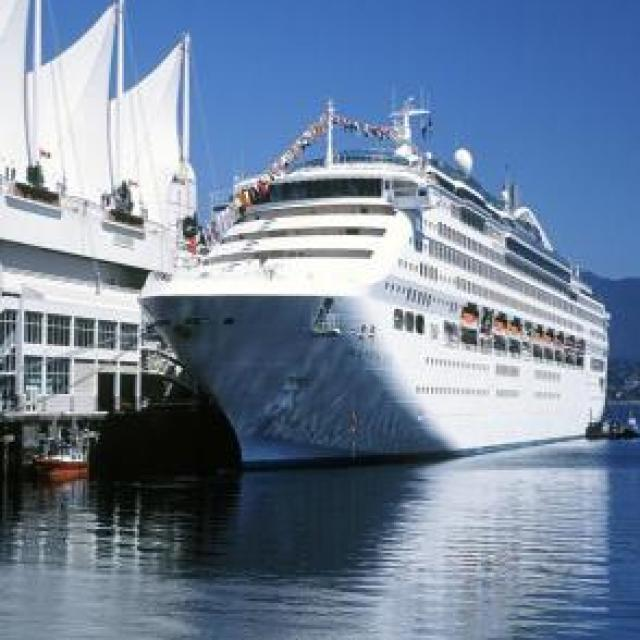passenger ship: (138, 121, 614, 461)
